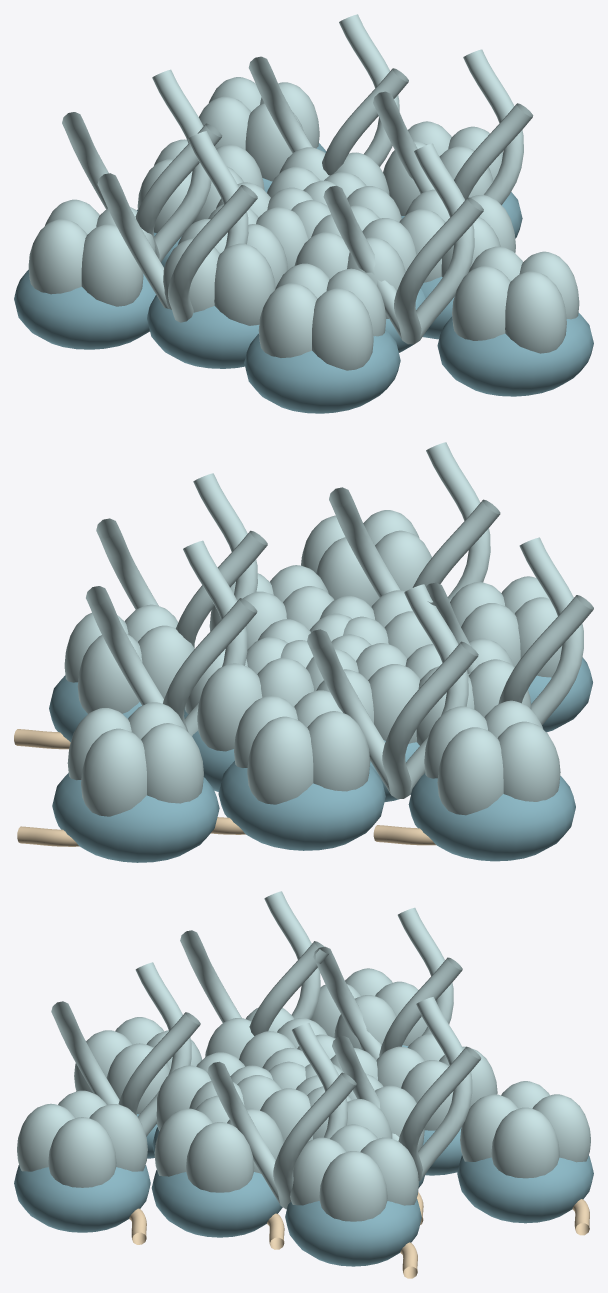
The model's file is bio_oxygen_reef_14_near.glb.
3 views of the same model, one above another, from view 1: azimuth 30°, elevation 25°; view 2: azimuth 150°, elevation 25°; view 3: azimuth 270°, elevation 25° (orthographic). The views are drawn at different scales.
Visible parts, largest first — view 1: Lobed gas sac.040, Lobed gas sac.028, Spiral filament.006, Lobed gas sac.036, Spiral filament.012, Photosynthetic cushion.007, Photosynthetic cushion.010, Spiral filament.003, Lobed gas sac.016, Spiral filament, Spiral filament.009, Photosynthetic cushion.009 (+10 smaller); view 2: Lobed gas sac.036, Lobed gas sac.044, Lobed gas sac.024, Spiral filament.003, Spiral filament.009, Photosynthetic cushion.006, Photosynthetic cushion.011, Photosynthetic cushion.009, Lobed gas sac.032, Spiral filament.006, Spiral filament.012, Lobed gas sac.012 (+14 smaller); view 3: Lobed gas sac.040, Lobed gas sac.044, Lobed gas sac.032, Lobed gas sac.020, Spiral filament, Spiral filament.009, Spiral filament.006, Spiral filament.012, Photosynthetic cushion.010, Photosynthetic cushion.011, Photosynthetic cushion.008, Spiral filament.003 (+13 smaller).
Part boxes in pixels (left/top/right/bottom): Lobed gas sac.040: left=452, top=246, right=579, bottom=353; Lobed gas sac.028: left=258, top=263, right=385, bottom=370; Spiral filament.006: left=323, top=143, right=483, bottom=344; Lobed gas sac.036: left=28, top=199, right=155, bottom=306; Spiral filament.012: left=97, top=131, right=257, bottom=322; Photosynthetic cushion.007: left=244, top=330, right=400, bottom=413; Photosynthetic cushion.010: left=437, top=313, right=593, bottom=396; Spiral filament.003: left=62, top=69, right=222, bottom=262; Lobed gas sac.016: left=163, top=219, right=288, bottom=325; Spiral filament: left=373, top=49, right=533, bottom=205; Spiral filament.009: left=248, top=14, right=408, bottom=175; Photosynthetic cushion.009: left=14, top=269, right=155, bottom=349; Lobed gas sac.036: left=424, top=700, right=560, bottom=815; Lobed gas sac.044: left=67, top=702, right=203, bottom=816; Lobed gas sac.024: left=234, top=690, right=370, bottom=804; Spiral filament.003: left=307, top=584, right=478, bottom=798; Spiral filament.009: left=86, top=540, right=257, bottom=735; Photosynthetic cushion.006: left=218, top=761, right=385, bottom=850; Photosynthetic cushion.011: left=52, top=773, right=219, bottom=862; Photosynthetic cushion.009: left=408, top=773, right=575, bottom=861; Lobed gas sac.032: left=64, top=604, right=194, bottom=713; Spiral filament.006: left=329, top=442, right=500, bottom=601; Spiral filament.012: left=426, top=537, right=593, bottom=724; Lobed gas sac.012: left=185, top=637, right=313, bottom=751; Lobed gas sac.040: left=17, top=1090, right=147, bottom=1187; Lobed gas sac.044: left=460, top=1081, right=590, bottom=1178; Lobed gas sac.032: left=290, top=1124, right=418, bottom=1221; Lobed gas sac.020: left=154, top=1095, right=283, bottom=1192; Spiral filament: left=207, top=1023, right=356, bottom=1209; Spiral filament.009: left=332, top=997, right=481, bottom=1181; Spiral filament.006: left=51, top=962, right=200, bottom=1136; Spiral filament.012: left=180, top=891, right=328, bottom=1035; Photosynthetic cushion.010: left=14, top=1165, right=150, bottom=1232; Photosynthetic cushion.011: left=457, top=1155, right=593, bottom=1223; Photosynthetic cushion.008: left=285, top=1199, right=421, bottom=1266; Spiral filament.003: left=313, top=907, right=462, bottom=1060.
Size of the model in its own units: 1.85 by 0.7514 by 2.03.
